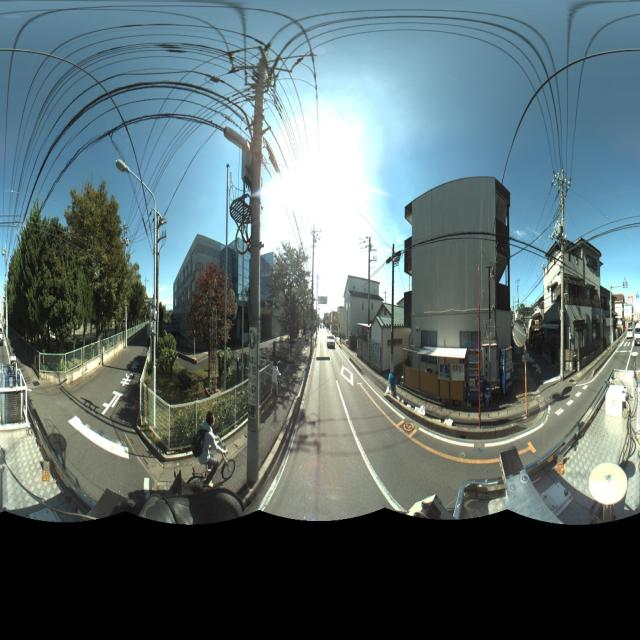b_1: (402, 170, 517, 385), (544, 230, 602, 357), (338, 268, 385, 338)
b_2: (168, 222, 294, 348)
